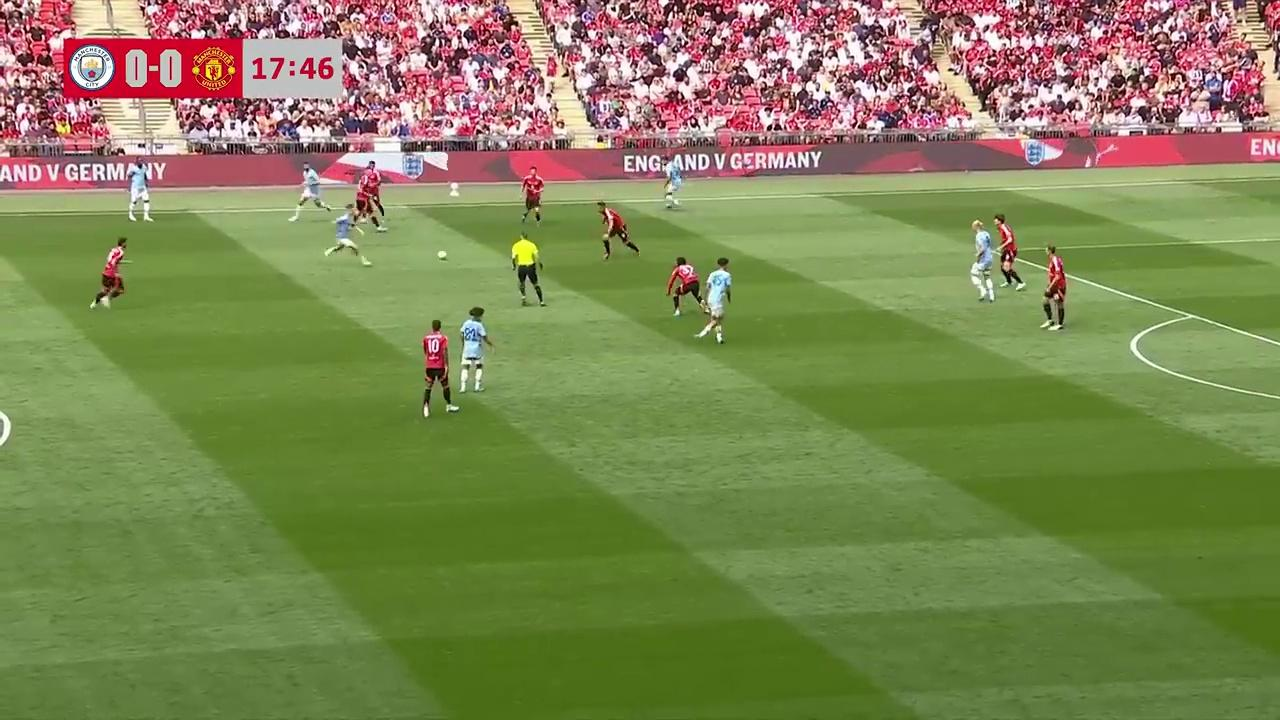ball: (434, 247, 448, 261)
player: (421, 320, 458, 417), (457, 306, 494, 393), (695, 258, 731, 344), (89, 238, 127, 310), (324, 204, 366, 263), (596, 204, 639, 259), (993, 216, 1024, 290), (1040, 247, 1067, 330), (665, 257, 702, 317), (289, 166, 327, 221), (969, 229, 996, 303), (128, 155, 153, 222), (360, 161, 386, 225), (357, 181, 384, 233), (521, 173, 544, 224), (661, 162, 681, 208), (0, 409, 11, 463)
referee: (510, 232, 546, 307)
